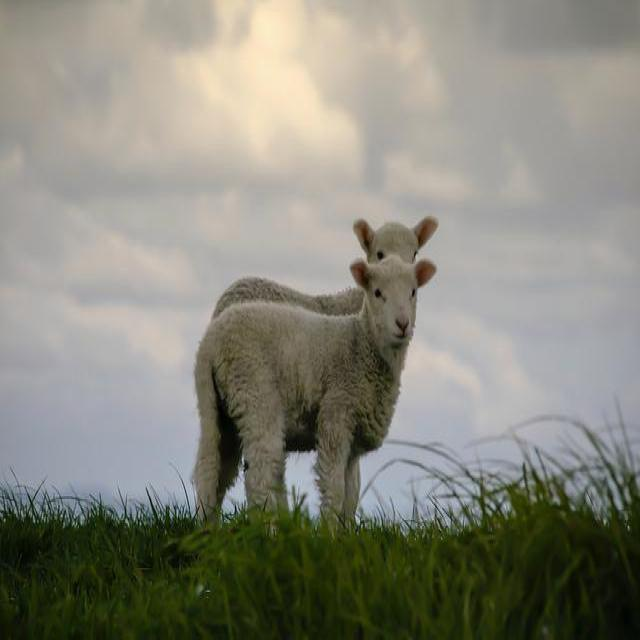Sheep: (211, 214, 441, 529), (200, 256, 434, 516)
